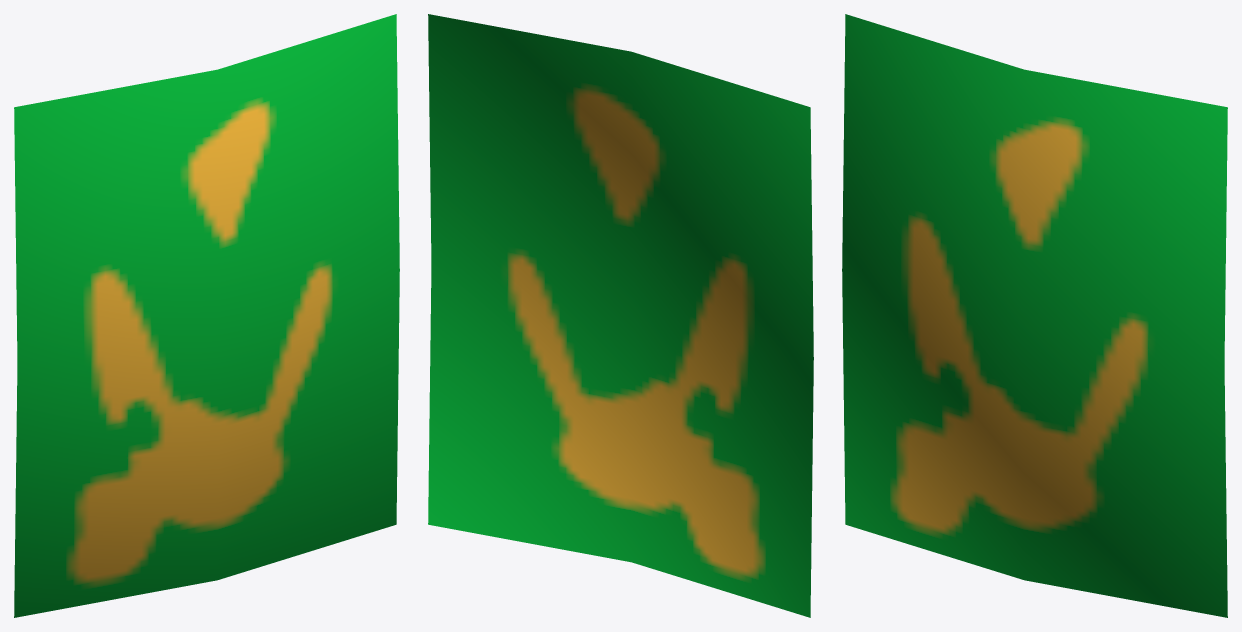
Rendered from p_mesh_trashbot_slimewave_splashplane02.fbx.
The picture shows the model from 3 angles, left to right: view 1: azimuth 30°, elevation 25°; view 2: azimuth 150°, elevation 25°; view 3: azimuth 330°, elevation 25°; orthographic projection.
Visible parts, largest first — view 1: p_trashbot_slimewave_splashplane02; view 2: p_trashbot_slimewave_splashplane02; view 3: p_trashbot_slimewave_splashplane02.
Boxes of the visible parts, x1,y1,x2,y2 form: p_trashbot_slimewave_splashplane02: (14, 14, 399, 617); p_trashbot_slimewave_splashplane02: (428, 14, 813, 617); p_trashbot_slimewave_splashplane02: (842, 14, 1227, 617).
Size of the model in its own units: 5.1 by 6.51 by 0.3597.
